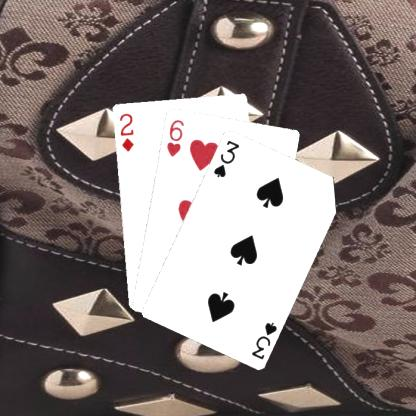2D: (116, 110, 135, 153)
3S: (210, 137, 241, 179), (249, 319, 278, 360)
6H: (164, 116, 186, 158)
